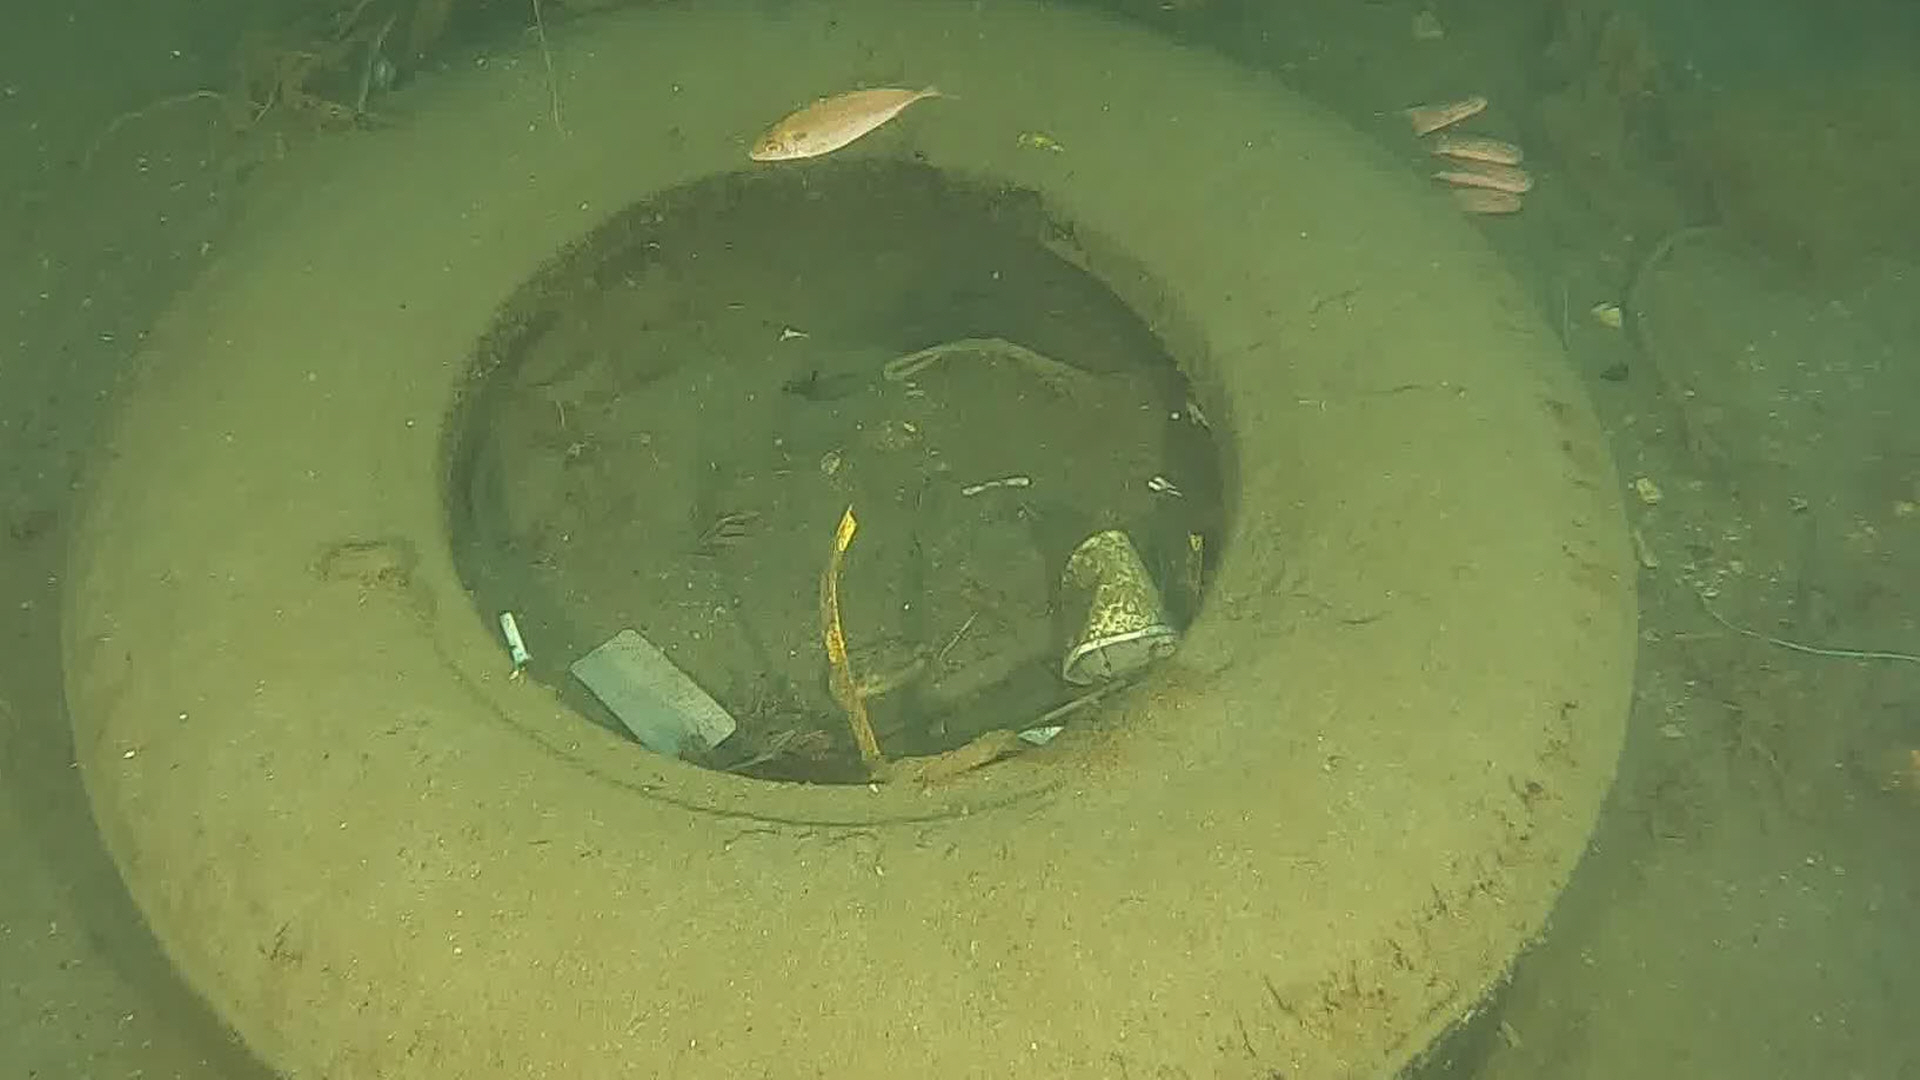tire: (65, 0, 1640, 1080)
